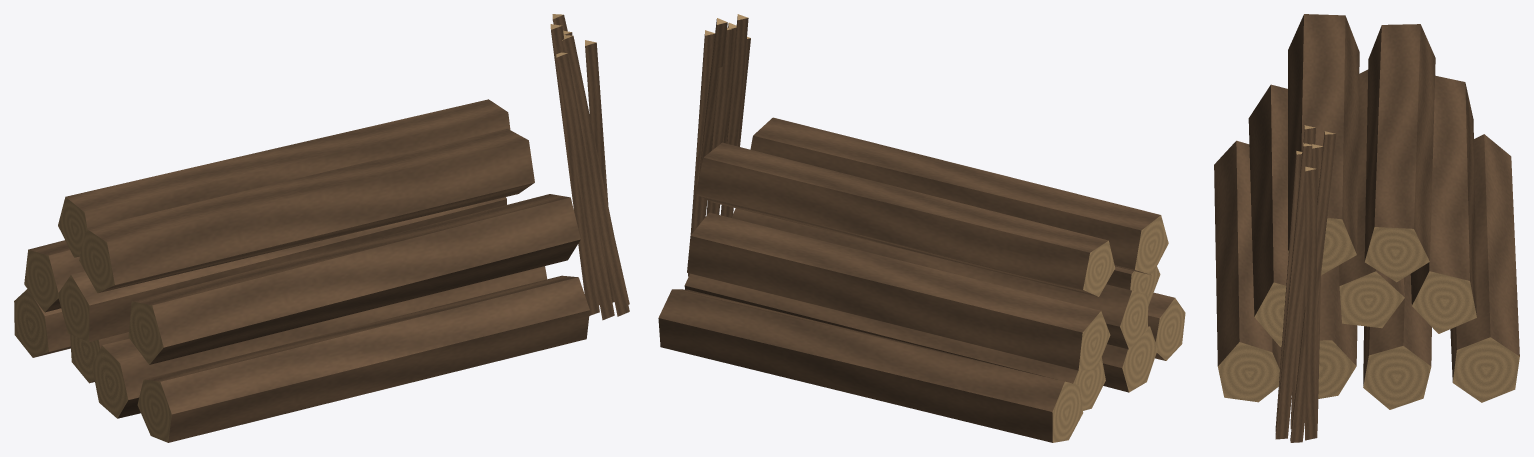
File: firewood_stack.glb
3 renders of one model, left to right at view 1: azimuth 30°, elevation 25°; view 2: azimuth 150°, elevation 25°; view 3: azimuth 270°, elevation 25°, orthographic. The views are drawn at different scales.
Visible parts, largest first — view 1: FIREWOOD_STACK; view 2: FIREWOOD_STACK; view 3: FIREWOOD_STACK.
Part boxes in pixels (x1,y1,x2,y2): FIREWOOD_STACK: (14, 14, 629, 442); FIREWOOD_STACK: (658, 14, 1185, 442); FIREWOOD_STACK: (1214, 14, 1519, 442).
Bounding box in the file's own units: 0.8644 × 0.4636 × 0.4472.
Materials: 1 (1 with a texture image).
